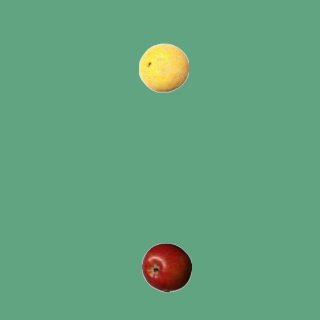Apple Braeburn: (141, 242, 191, 292)
Cantaloupe 1: (138, 42, 188, 92)
